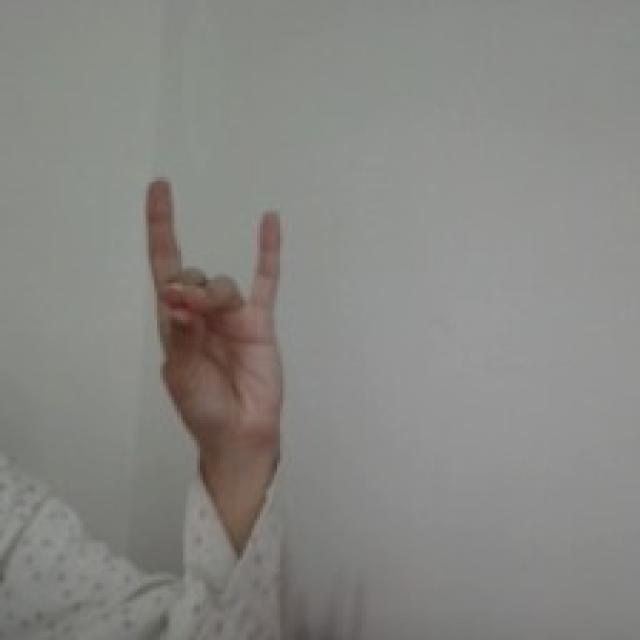Dog: (131, 176, 299, 453)
